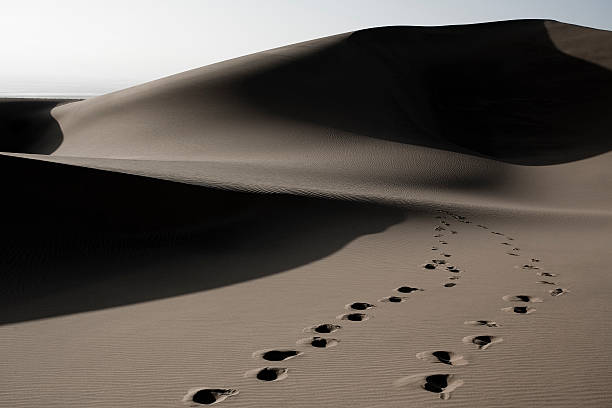human_footprint: (394, 373, 462, 399), (182, 387, 239, 406), (416, 350, 467, 365), (245, 367, 287, 381), (463, 335, 502, 349), (253, 349, 301, 360), (297, 336, 339, 347), (304, 323, 341, 333), (502, 294, 542, 302), (337, 312, 369, 321), (345, 302, 375, 310), (501, 306, 535, 313), (464, 320, 500, 326), (395, 286, 423, 293), (549, 288, 570, 297), (379, 296, 405, 302)
